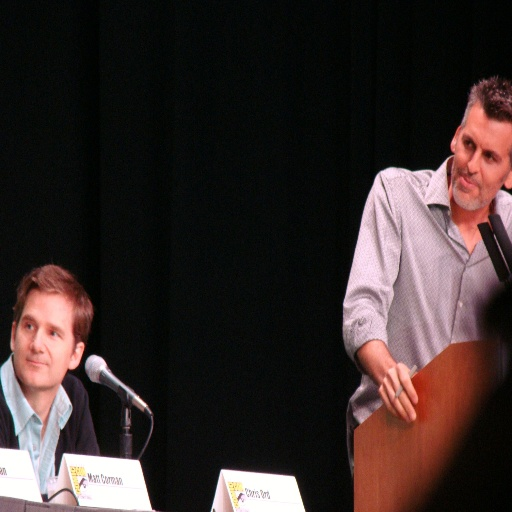hand: (381, 363, 437, 427)
